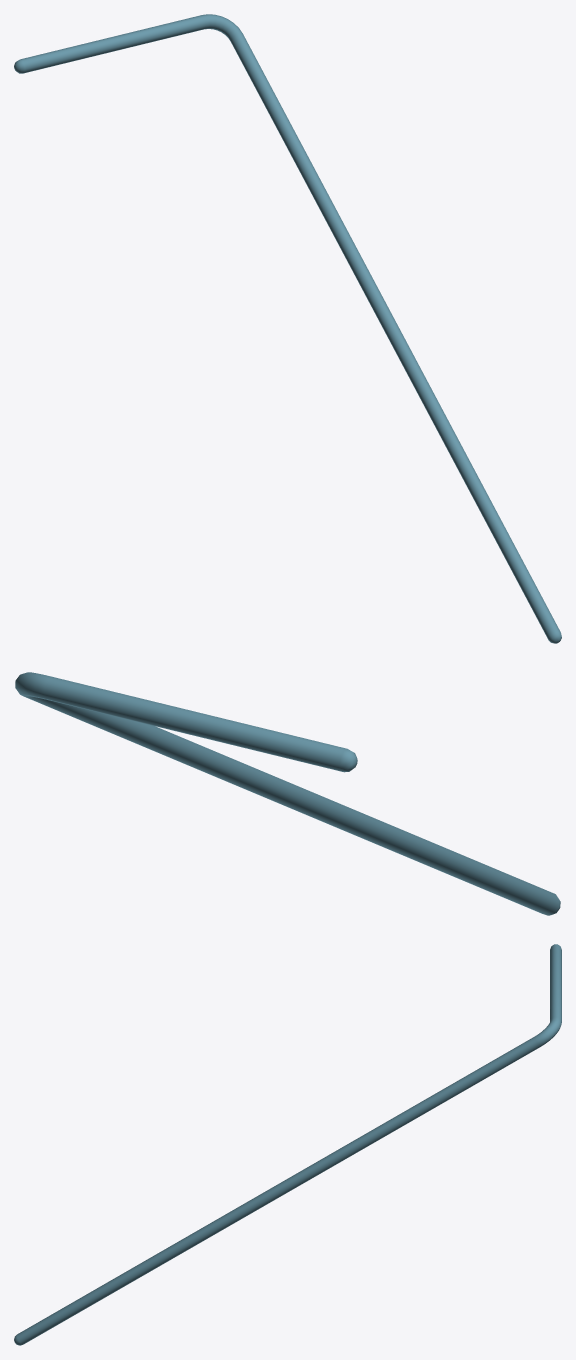
File: Rail.fbx
3 views of the same model, one above another, from view 1: azimuth 30°, elevation 25°; view 2: azimuth 150°, elevation 25°; view 3: azimuth 270°, elevation 25° (orthographic). The views are drawn at different scales.
Parts seen in each view (by area): view 1: Mode; view 2: Mode; view 3: Mode.
Boxes of the visible parts, left/top/right/bottom form: Mode: left=14, top=14, right=561, bottom=643; Mode: left=15, top=672, right=560, bottom=915; Mode: left=14, top=944, right=561, bottom=1345.
Size of the model in its own units: 1.79 by 3.09 by 4.81.
